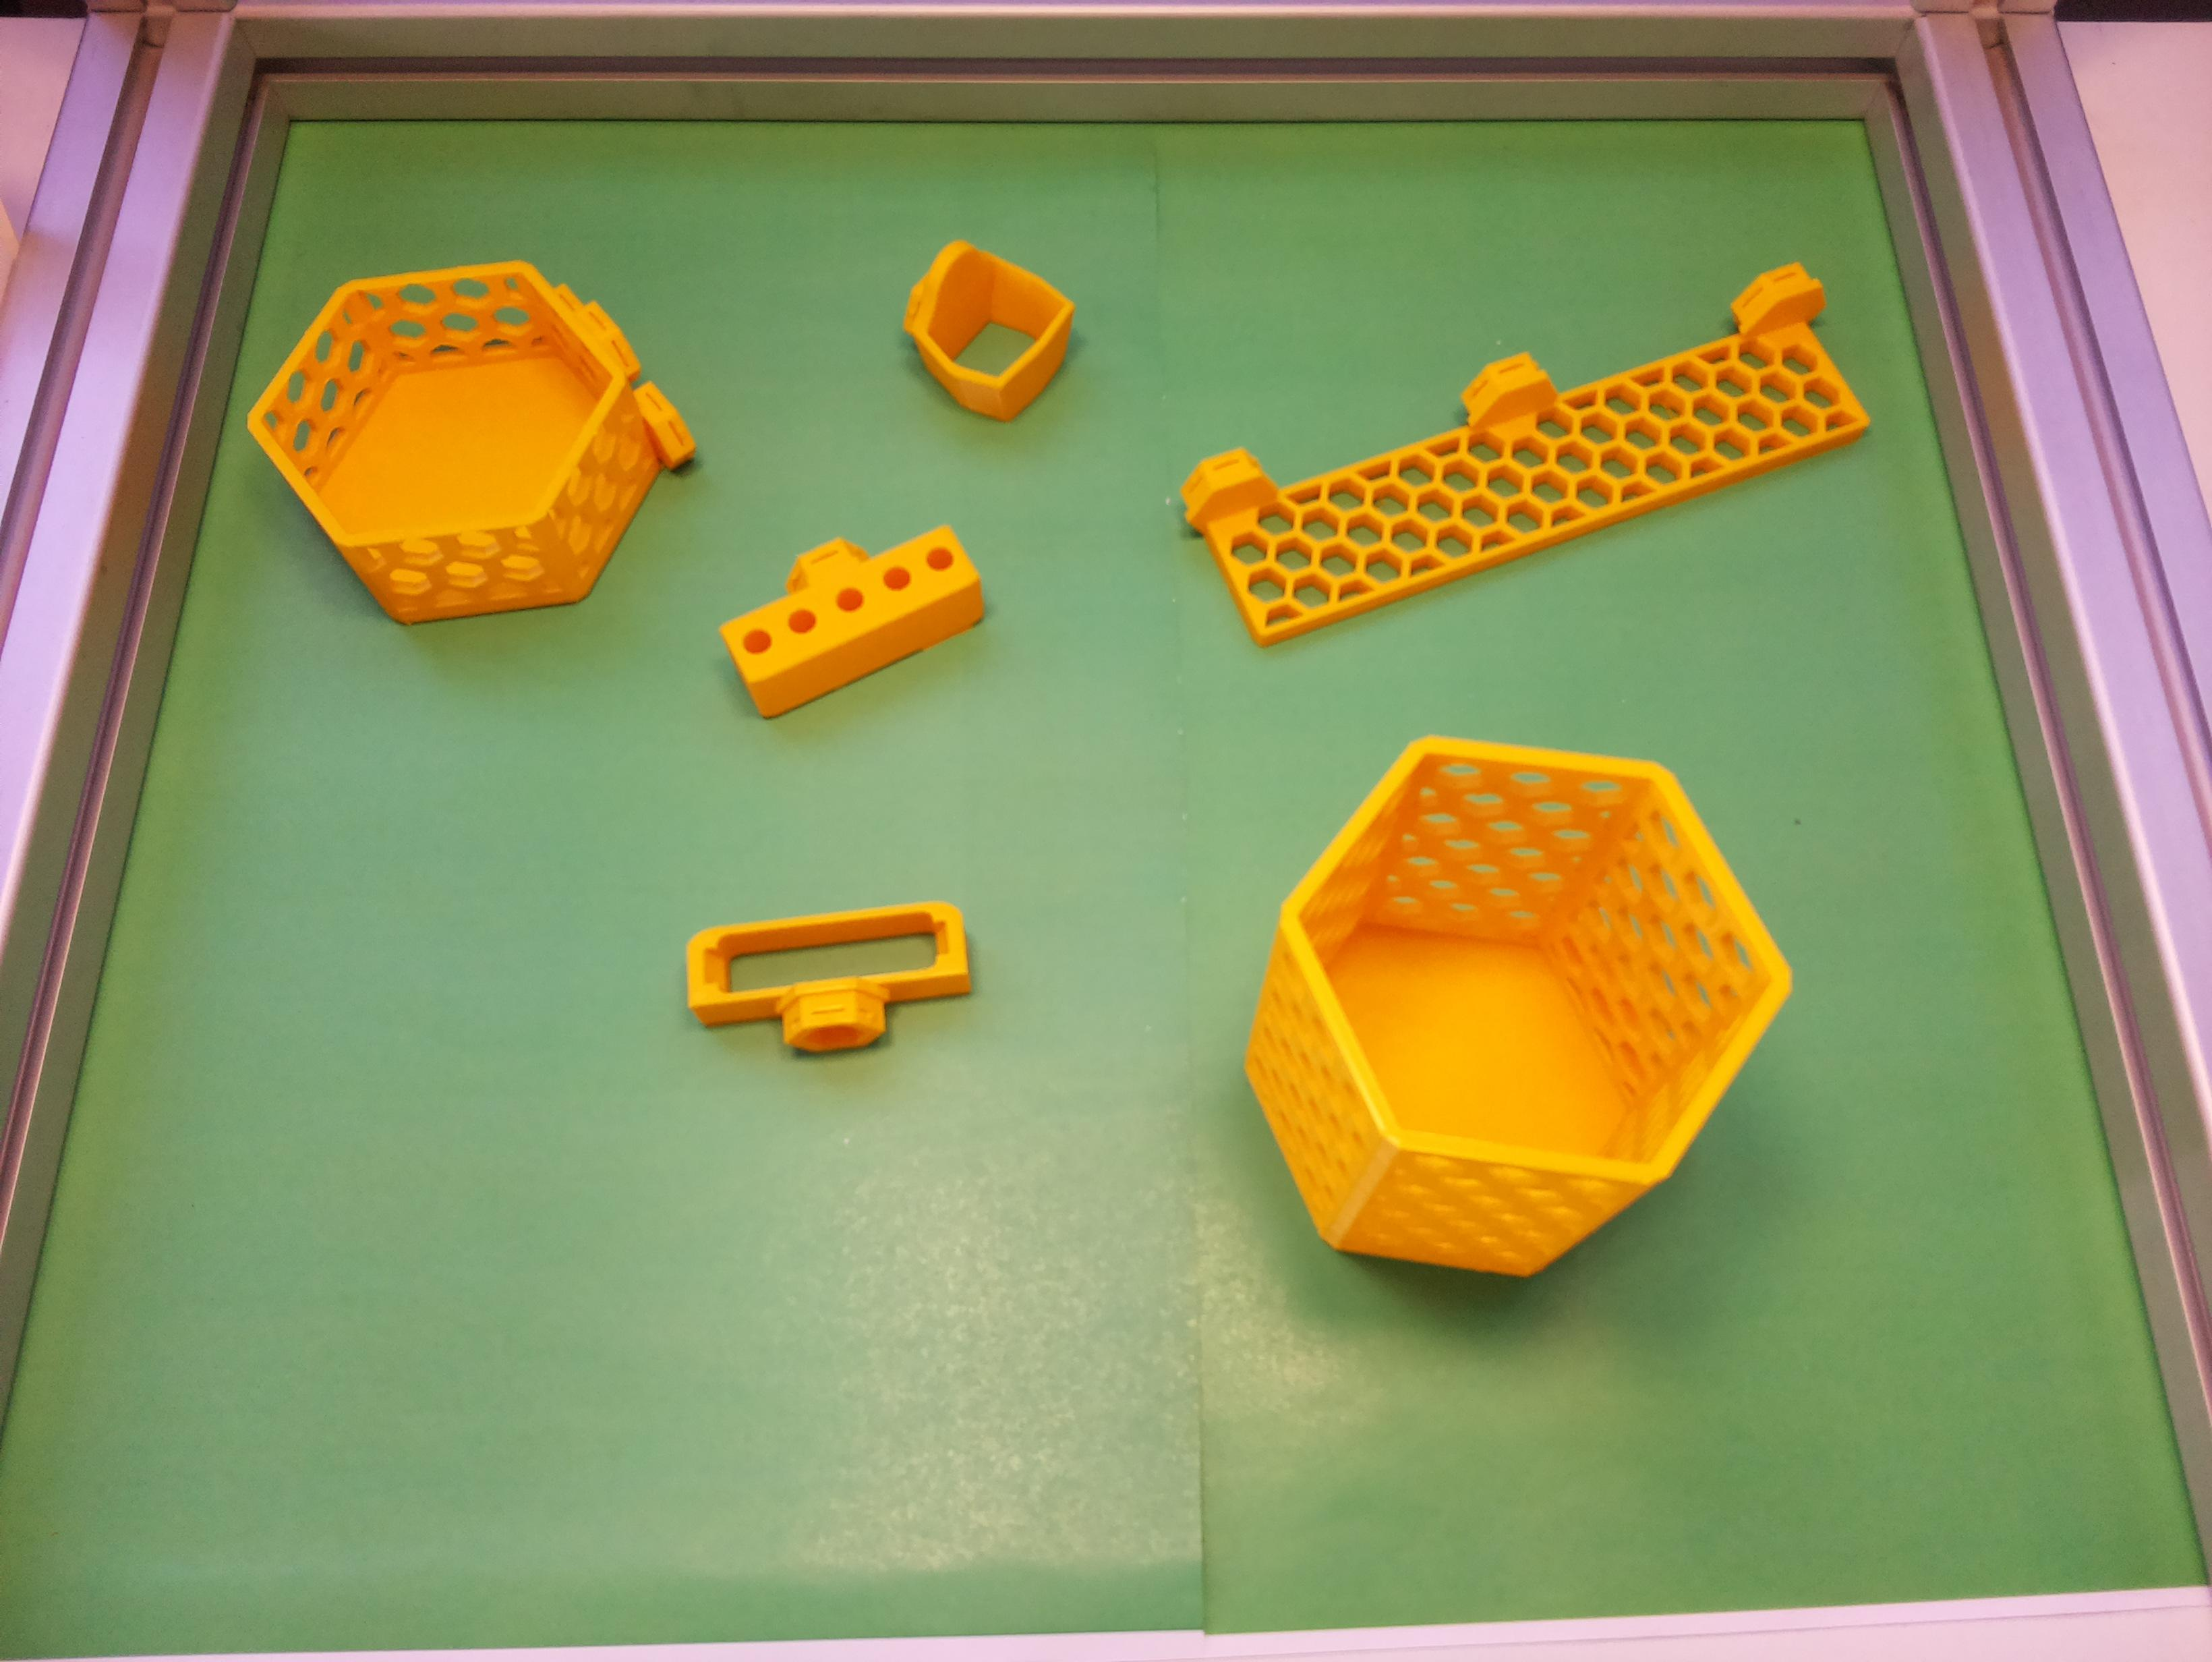bit_holder: (705, 492, 997, 721)
bottle_holder: (211, 168, 735, 698)
cup_holder: (1142, 635, 1854, 1379)
cutter_holder: (679, 897, 976, 1067)
scissor_holder: (875, 222, 1095, 438)
tool_holder: (1170, 250, 1873, 656)
